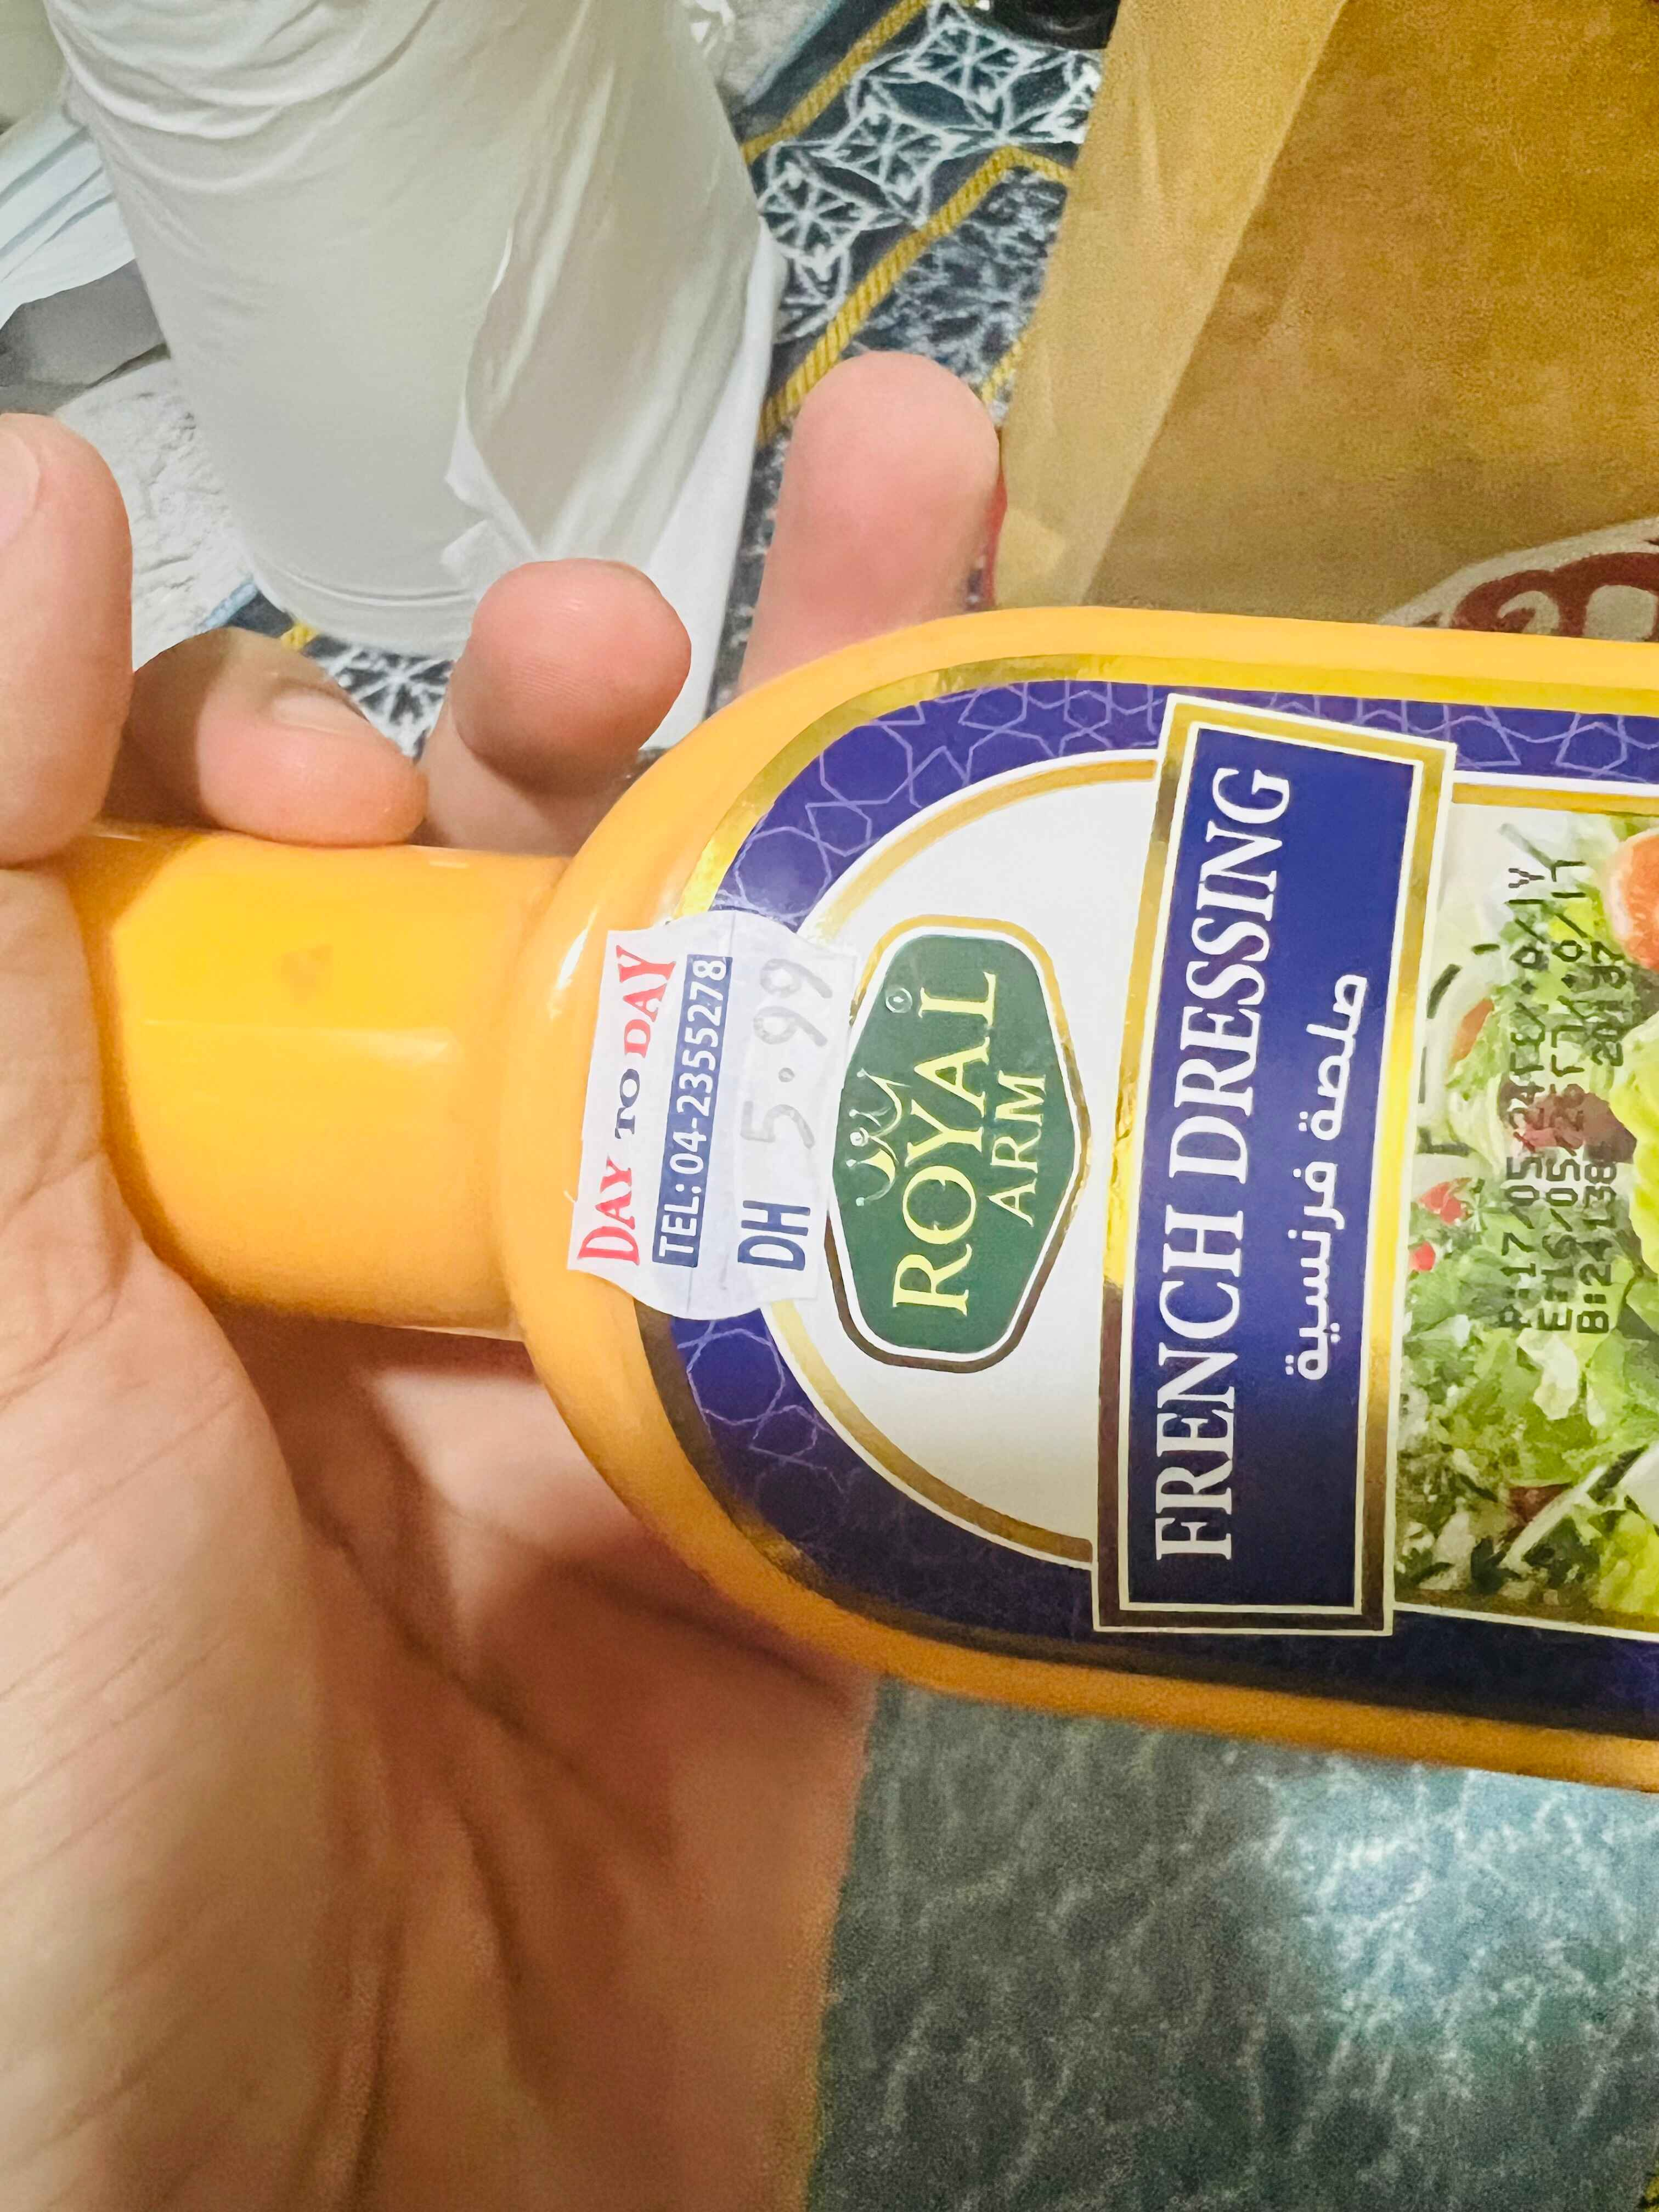PriceTagSmall: (570, 911, 845, 1329)
